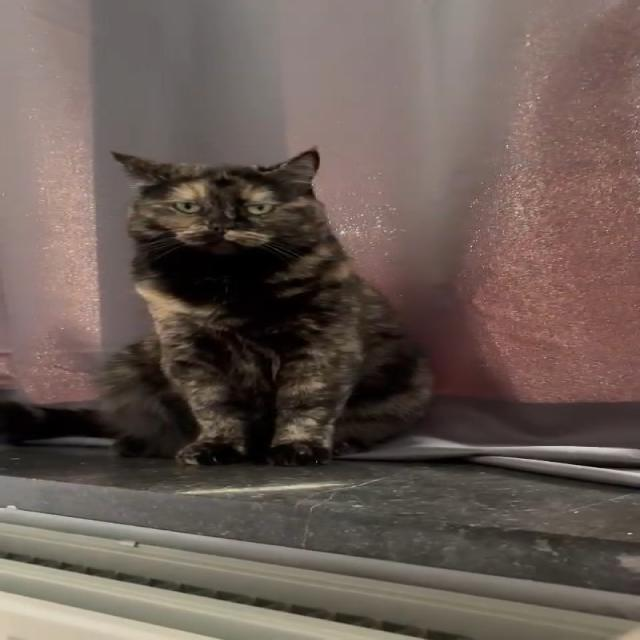authorized: (92, 145, 436, 467)
